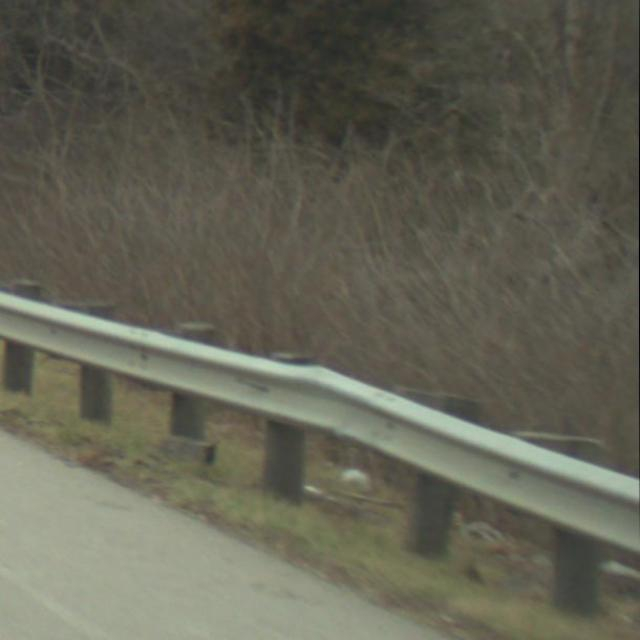Guard rail: (0, 273, 640, 632)
